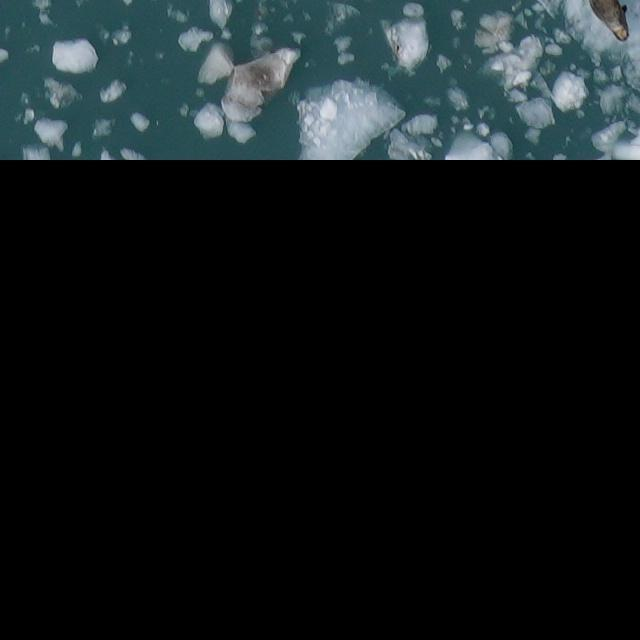seal: (587, 0, 628, 40)
